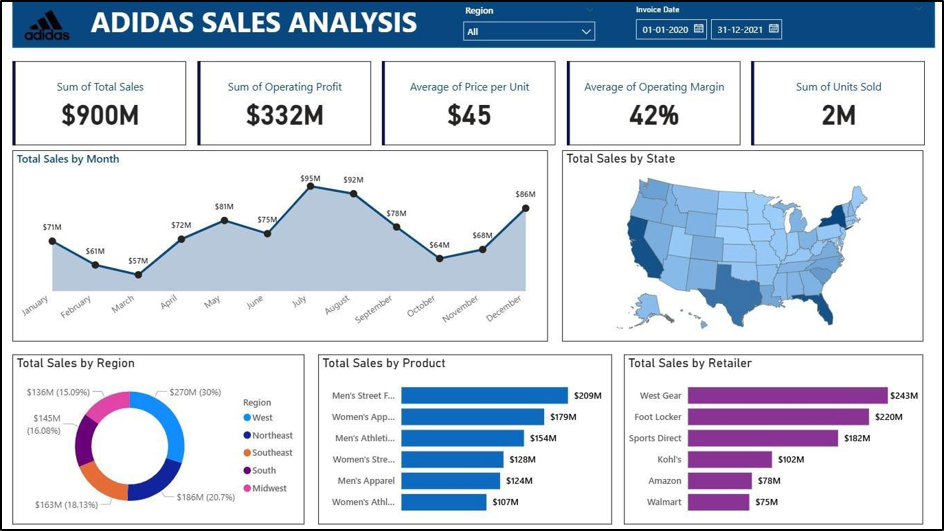

What the dashboard file says about the page in this screenshot:
{"tool":"powerbi","page":{"name":"Page 1","canvas":[1280,720],"ordinal":0},"visuals":[{"type":"cardVisual","title":"Sum of total sa","fields":{"Data":["Sum(Table 1 (Data Sales Adidas).Total Sales)","Sum(Table 1 (Data Sales Adidas).Operating Profit)","Sum(Table 1 (Data Sales Adidas).Units Sold)","Avg(Table 1 (Data Sales Adidas).Price per Unit)","Avg(Table 1 (Data Sales Adidas).Operating Margin)"]},"box":[19.8,77.9,1255.8,125.6],"z":0},{"type":"areaChart","fields":{"Category":["Table 1 (Data Sales Adidas).Invoice Date.Variation.Date Hierarchy.Month"],"Y":["Sum(Table 1 (Data Sales Adidas).Total Sales)"]},"box":[19.8,203.5,724.4,260.5],"z":1000},{"type":"shapeMap","title":"Total Sales by State","fields":{"Category":["Table 1 (Data Sales Adidas).State"],"Value":["Sum(Table 1 (Data Sales Adidas).Total Sales)"]},"box":[760.5,203.5,507,260.5],"z":2000},{"type":"donutChart","fields":{"Category":["Table 1 (Data Sales Adidas).Region"],"Y":["Sum(Table 1 (Data Sales Adidas).Total Sales)"]},"box":[10.5,475.6,400,224.4],"z":3000},{"type":"barChart","fields":{"Category":["Table 1 (Data Sales Adidas).Product"],"Y":["Sum(Table 1 (Data Sales Adidas).Total Sales)"]},"box":[425.6,475.6,426.7,224.4],"z":4000},{"type":"barChart","title":"   Total Sales by Retailer","fields":{"Y":["Sum(Table 1 (Data Sales Adidas).Total Sales)"],"Category":["Table 1 (Data Sales Adidas).Retailer"]},"box":[864,476.7,403.5,224.4],"z":5000},{"type":"slicer","fields":{"Values":["Table 1 (Data Sales Adidas).Region"]},"box":[519.7,204.2,299.6,64.8],"z":6000},{"type":"image","box":[33,12.2,106.4,45.2],"z":7000},{"type":"slicer","fields":{"Values":["Table 1 (Data Sales Adidas).Region"]},"box":[796.1,4.9,193.2,59.9],"z":8000},{"type":"slicer","fields":{"Values":["Table 1 (Data Sales Adidas).Invoice Date"]},"box":[1000.3,4.9,256.8,59.9],"z":9000},{"type":"textbox","box":[9.8,0,1260.7,69.7],"z":10000},{"type":"image","box":[33,4.9,106.4,52.6],"z":10001},{"type":"slicer","fields":{"Values":["Table 1 (Data Sales Adidas).Region"]},"box":[716.6,0,205.4,69.7],"z":10002},{"type":"slicer","fields":{"Values":["Table 1 (Data Sales Adidas).Invoice Date"]},"box":[933,0,223.8,64.8],"z":10003}]}

Visuals, with their boxes in screenshot pixels (x1, y1, x2, y2), scaled from the page's 1280x720 canvas onto the 944x531 screenshot:
"Sum of total sa" cardVisual: x1=15, y1=57, x2=941, y2=150
areaChart - Table 1 (Data Sales Adidas).Invoice Date.Variation.Date Hierarchy.Month x Sum(Table 1 (Data Sales Adidas).Total Sales): x1=15, y1=150, x2=549, y2=342
"Total Sales by State" shapeMap: x1=561, y1=150, x2=935, y2=342
donutChart - Table 1 (Data Sales Adidas).Region x Sum(Table 1 (Data Sales Adidas).Total Sales): x1=8, y1=351, x2=303, y2=516
barChart - Table 1 (Data Sales Adidas).Product x Sum(Table 1 (Data Sales Adidas).Total Sales): x1=314, y1=351, x2=629, y2=516
"   Total Sales by Retailer" barChart: x1=637, y1=352, x2=935, y2=517
slicer - Table 1 (Data Sales Adidas).Region: x1=383, y1=151, x2=604, y2=198
image: x1=24, y1=9, x2=103, y2=42
slicer - Table 1 (Data Sales Adidas).Region: x1=587, y1=4, x2=730, y2=48
slicer - Table 1 (Data Sales Adidas).Invoice Date: x1=738, y1=4, x2=927, y2=48
textbox: x1=7, y1=0, x2=937, y2=51
image: x1=24, y1=4, x2=103, y2=42
slicer - Table 1 (Data Sales Adidas).Region: x1=528, y1=0, x2=680, y2=51
slicer - Table 1 (Data Sales Adidas).Invoice Date: x1=688, y1=0, x2=853, y2=48
